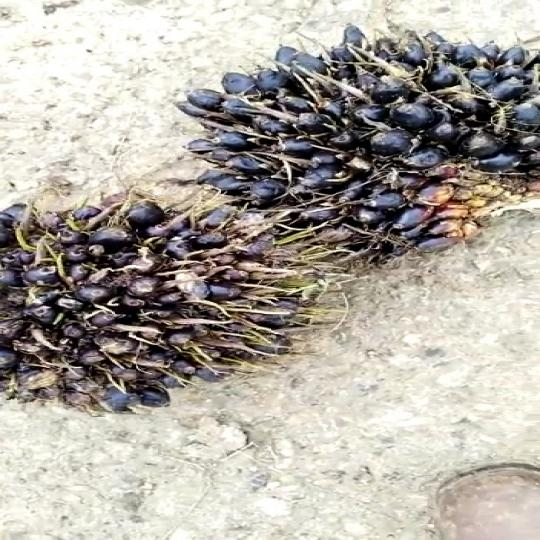mentah: (182, 16, 540, 274), (0, 198, 344, 405)
